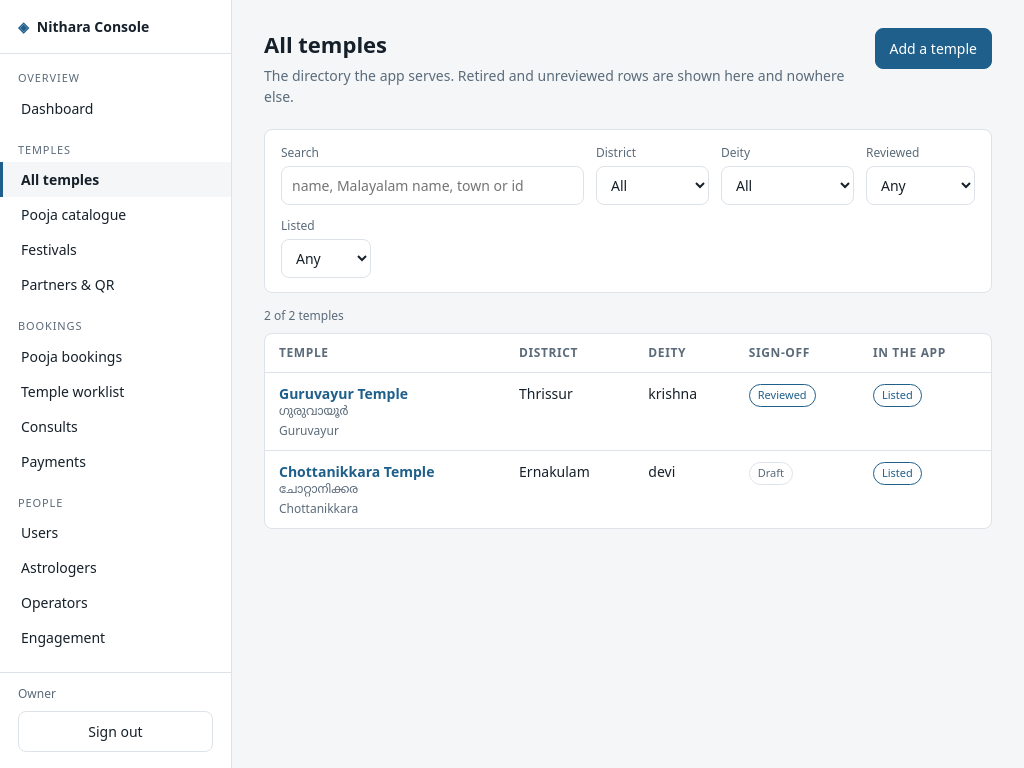
the directory list › says so when a filter matches nothing, instead of looking broken
Check: the link "Guruvayur Temple" is shown, box x1=279 y1=384 x2=408 y2=403
Type "zzzz" into the search field labelled "Search".
click(432, 186); type("zzzz")  # box x1=281 y1=166 x2=584 y2=205
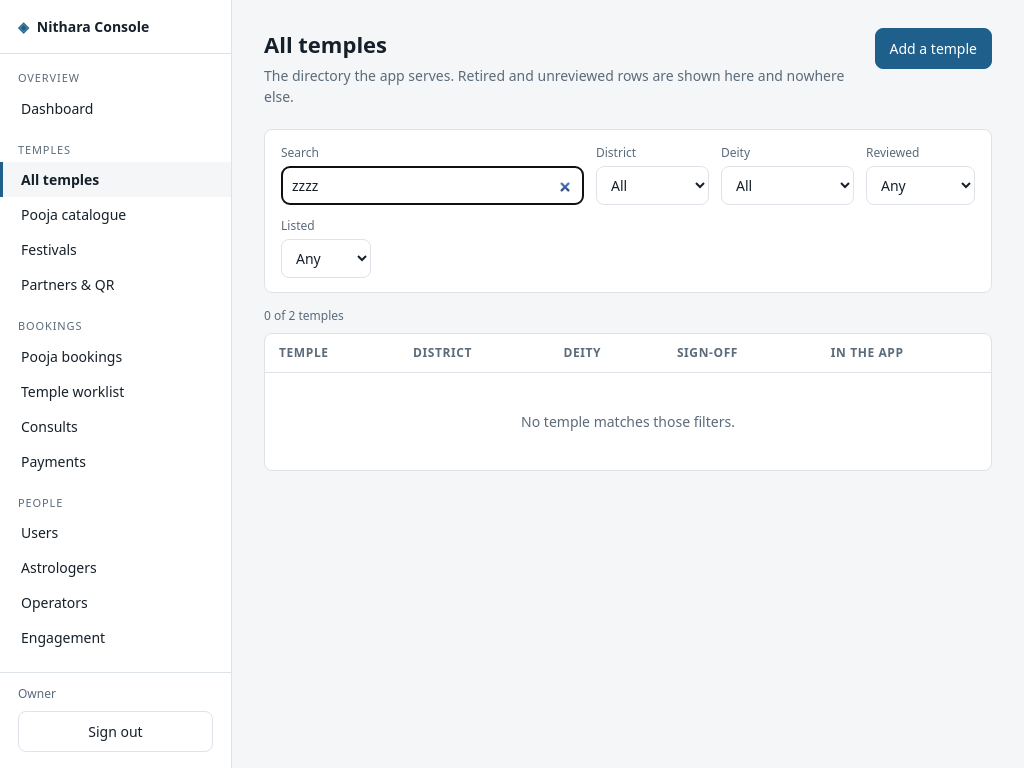
Check: the text "No temple matches those filters." is shown, box x1=521 y1=412 x2=735 y2=431
